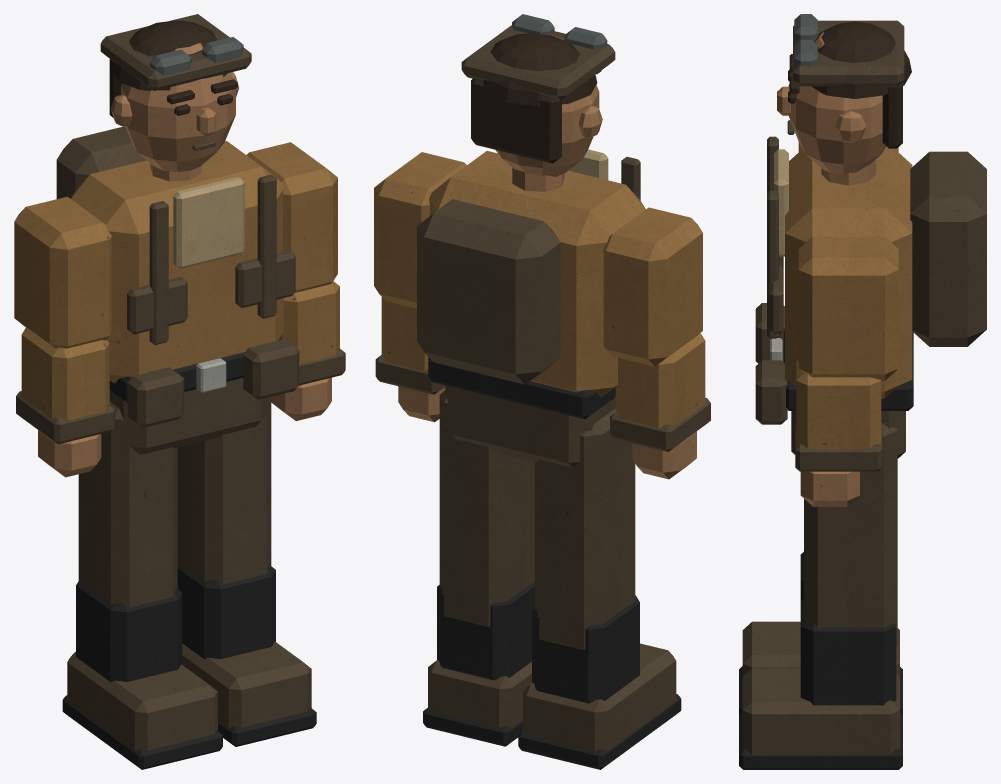
The model's file is citizen-human.glb.
3 views of the same model, side by side, from view 1: azimuth 30°, elevation 25°; view 2: azimuth 150°, elevation 25°; view 3: azimuth 270°, elevation 25° (orthographic). The views are drawn at different scales.
Parts seen in each view (by area): view 1: Actor_Body | Population worn enamel and cloth, Actor_Leg_L | Population worn enamel and cloth, Actor_Leg_R | Population worn enamel and cloth, Actor_Arm_L | Population worn enamel and cloth, Actor_Head | Population worn enamel and cloth, Actor_Arm_R | Population worn enamel and cloth; view 2: Actor_Body | Population worn enamel and cloth, Actor_Leg_L | Population worn enamel and cloth, Actor_Leg_R | Population worn enamel and cloth, Actor_Arm_L | Population worn enamel and cloth, Actor_Head | Population worn enamel and cloth, Actor_Arm_R | Population worn enamel and cloth; view 3: Actor_Body | Population worn enamel and cloth, Actor_Leg_R | Population worn enamel and cloth, Actor_Arm_R | Population worn enamel and cloth, Actor_Head | Population worn enamel and cloth, Actor_Leg_L | Population worn enamel and cloth.
Part boxes in pixels (<box>): Actor_Body | Population worn enamel and cloth: <box>56,126,299,454</box>; Actor_Leg_L | Population worn enamel and cloth: <box>62,401,222,769</box>; Actor_Leg_R | Population worn enamel and cloth: <box>177,397,316,746</box>; Actor_Arm_L | Population worn enamel and cloth: <box>14,196,115,477</box>; Actor_Head | Population worn enamel and cloth: <box>100,14,251,181</box>; Actor_Arm_R | Population worn enamel and cloth: <box>246,142,345,420</box>; Actor_Body | Population worn enamel and cloth: <box>417,149,645,467</box>; Actor_Leg_L | Population worn enamel and cloth: <box>518,408,681,769</box>; Actor_Leg_R | Population worn enamel and cloth: <box>423,390,534,746</box>; Actor_Arm_L | Population worn enamel and cloth: <box>603,207,710,479</box>; Actor_Head | Population worn enamel and cloth: <box>461,14,615,191</box>; Actor_Arm_R | Population worn enamel and cloth: <box>374,152,466,422</box>; Actor_Body | Population worn enamel and cloth: <box>755,136,986,458</box>; Actor_Leg_R | Population worn enamel and cloth: <box>739,423,902,769</box>; Actor_Arm_R | Population worn enamel and cloth: <box>795,236,898,506</box>; Actor_Head | Population worn enamel and cloth: <box>777,14,911,185</box>; Actor_Leg_L | Population worn enamel and cloth: <box>739,552,902,715</box>.
Size of the model in its own units: 0.81 by 1.81 by 0.5825.
1 material, 1 textured.
